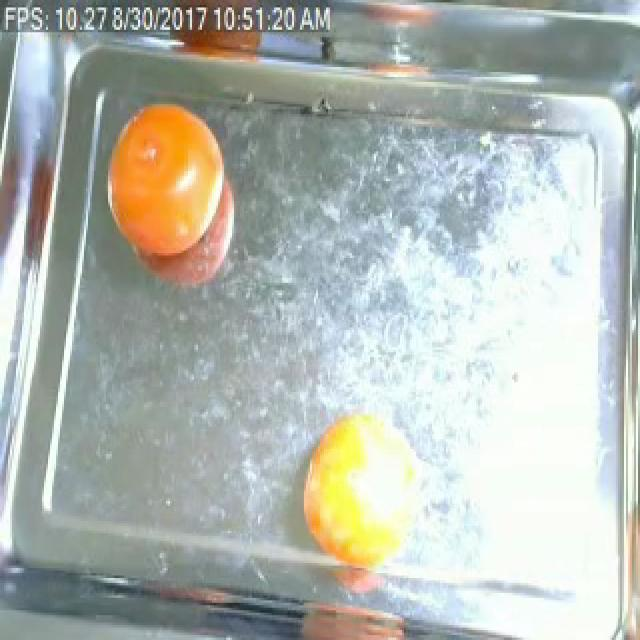Fruit: (94, 84, 242, 296), (290, 593, 418, 640)
